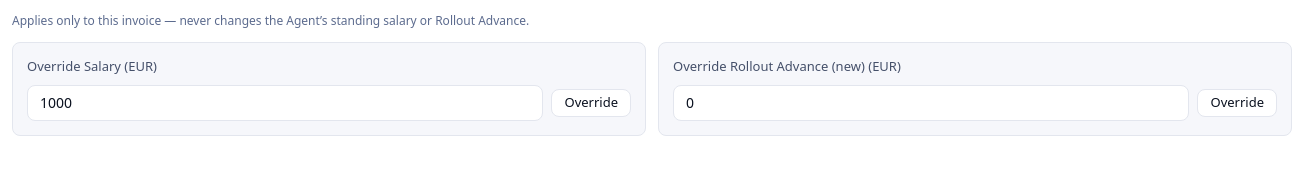
AgentInvoiceOverrideControl › shows an inline error and lets the Manager retry on a 500 response
Click the 1st button "Override". click: {"x": 591, "y": 102}
box: [552,88,631,116]
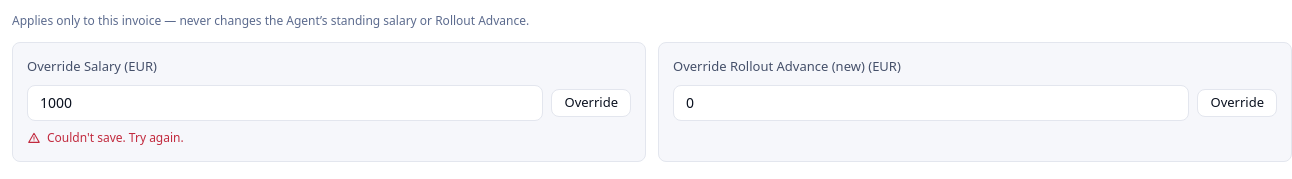
Check: the message reads "Couldn't save. Try again.", box [47,128,184,146]
